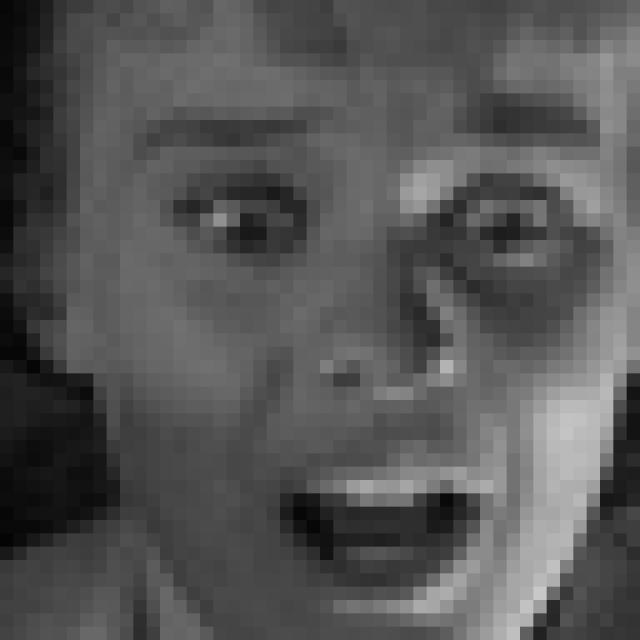fear: (131, 101, 609, 627)
